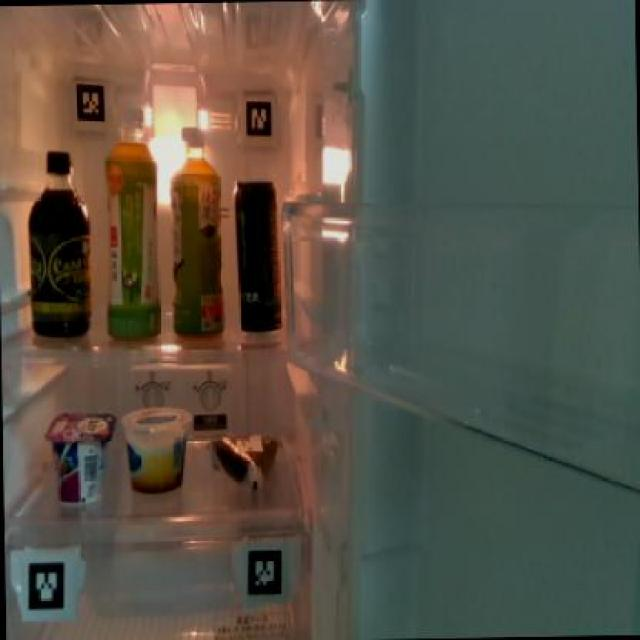coffee: (23, 143, 91, 337)
energy_drink: (228, 172, 281, 337)
pudding: (119, 406, 193, 496)
rice_ball: (204, 430, 279, 492)
tea_a: (167, 123, 225, 337)
tea_i: (102, 120, 160, 342)
yogurt: (43, 407, 117, 508)
